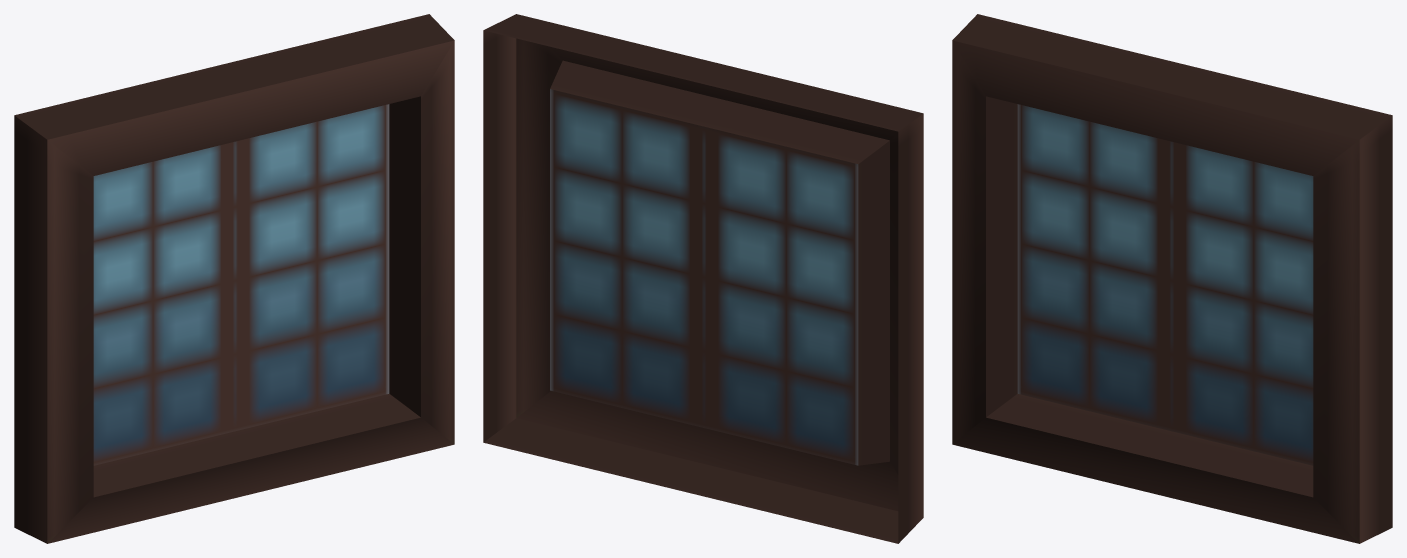
The model's file is window_v5_double_001.fbx.
3 views of the same model, side by side, from view 1: azimuth 30°, elevation 25°; view 2: azimuth 150°, elevation 25°; view 3: azimuth 330°, elevation 25° (orthographic).
Visible parts, largest first — view 1: window_v5_double_001; view 2: window_v5_double_001; view 3: window_v5_double_001.
Part boxes in pixels (x1,y1,x2,y2): window_v5_double_001: [14, 14, 454, 543]; window_v5_double_001: [483, 14, 923, 543]; window_v5_double_001: [952, 14, 1392, 543].
Bounding box in the file's own units: 150 × 143 × 22.31.
